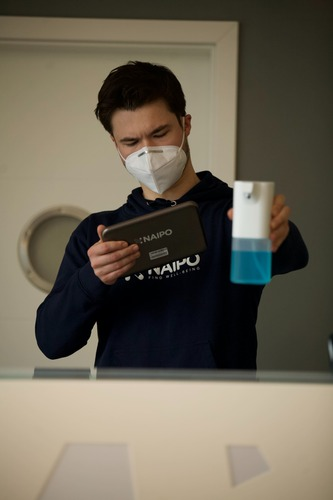with_mask: (113, 118, 186, 194)
